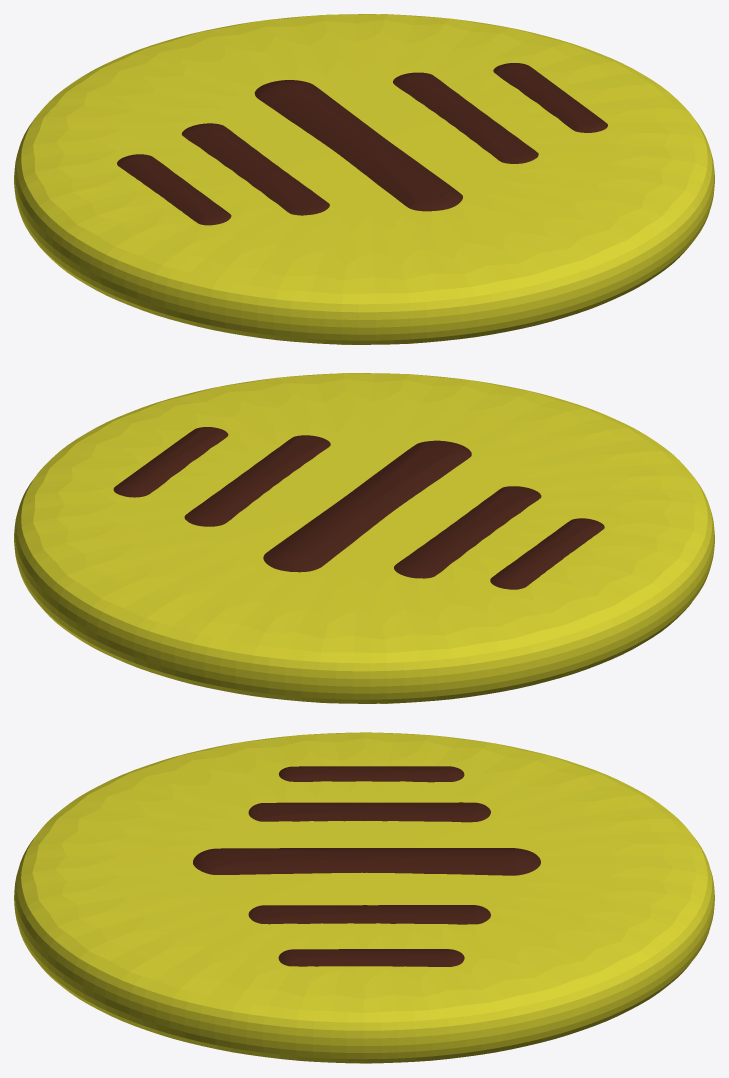
File: Arepa.fbx
The picture shows the model from 3 angles, top to bottom: view 1: azimuth 30°, elevation 25°; view 2: azimuth 150°, elevation 25°; view 3: azimuth 270°, elevation 25°; orthographic projection.
Parts seen in each view (by area): view 1: Cylinder, Sphere; view 2: Cylinder, Sphere; view 3: Cylinder, Sphere.
Boxes of the visible parts, x1=… form: Cylinder: x1=14, y1=14, x2=714, y2=344; Sphere: x1=117, y1=63, x2=607, y2=225; Cylinder: x1=14, y1=373, x2=714, y2=703; Sphere: x1=113, y1=427, x2=604, y2=589; Cylinder: x1=14, y1=732, x2=714, y2=1063; Sphere: x1=193, y1=766, x2=540, y2=966.
Size of the model in its own units: 195 by 23.52 by 195.
